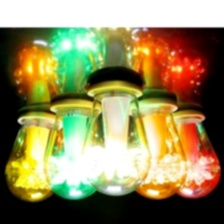light_bulb: (76, 77, 154, 199), (39, 97, 107, 202), (128, 92, 190, 201), (2, 109, 68, 204), (164, 106, 223, 200)
